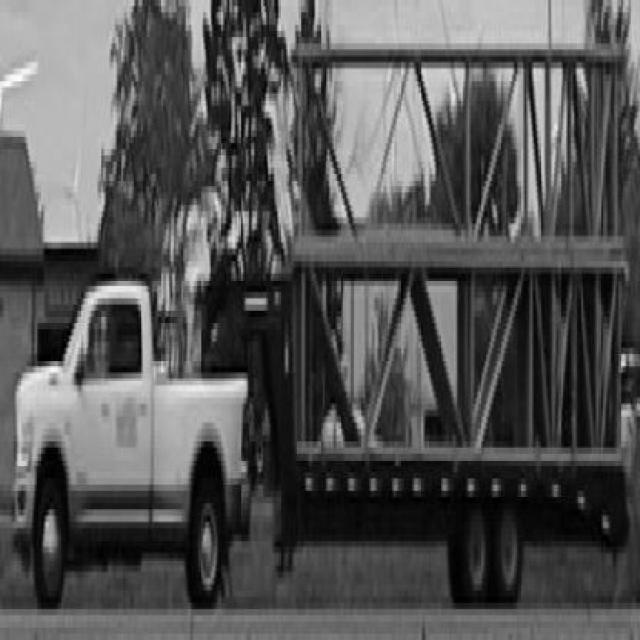Box Truck: (200, 281, 630, 606)
Pickup: (14, 280, 251, 611)
